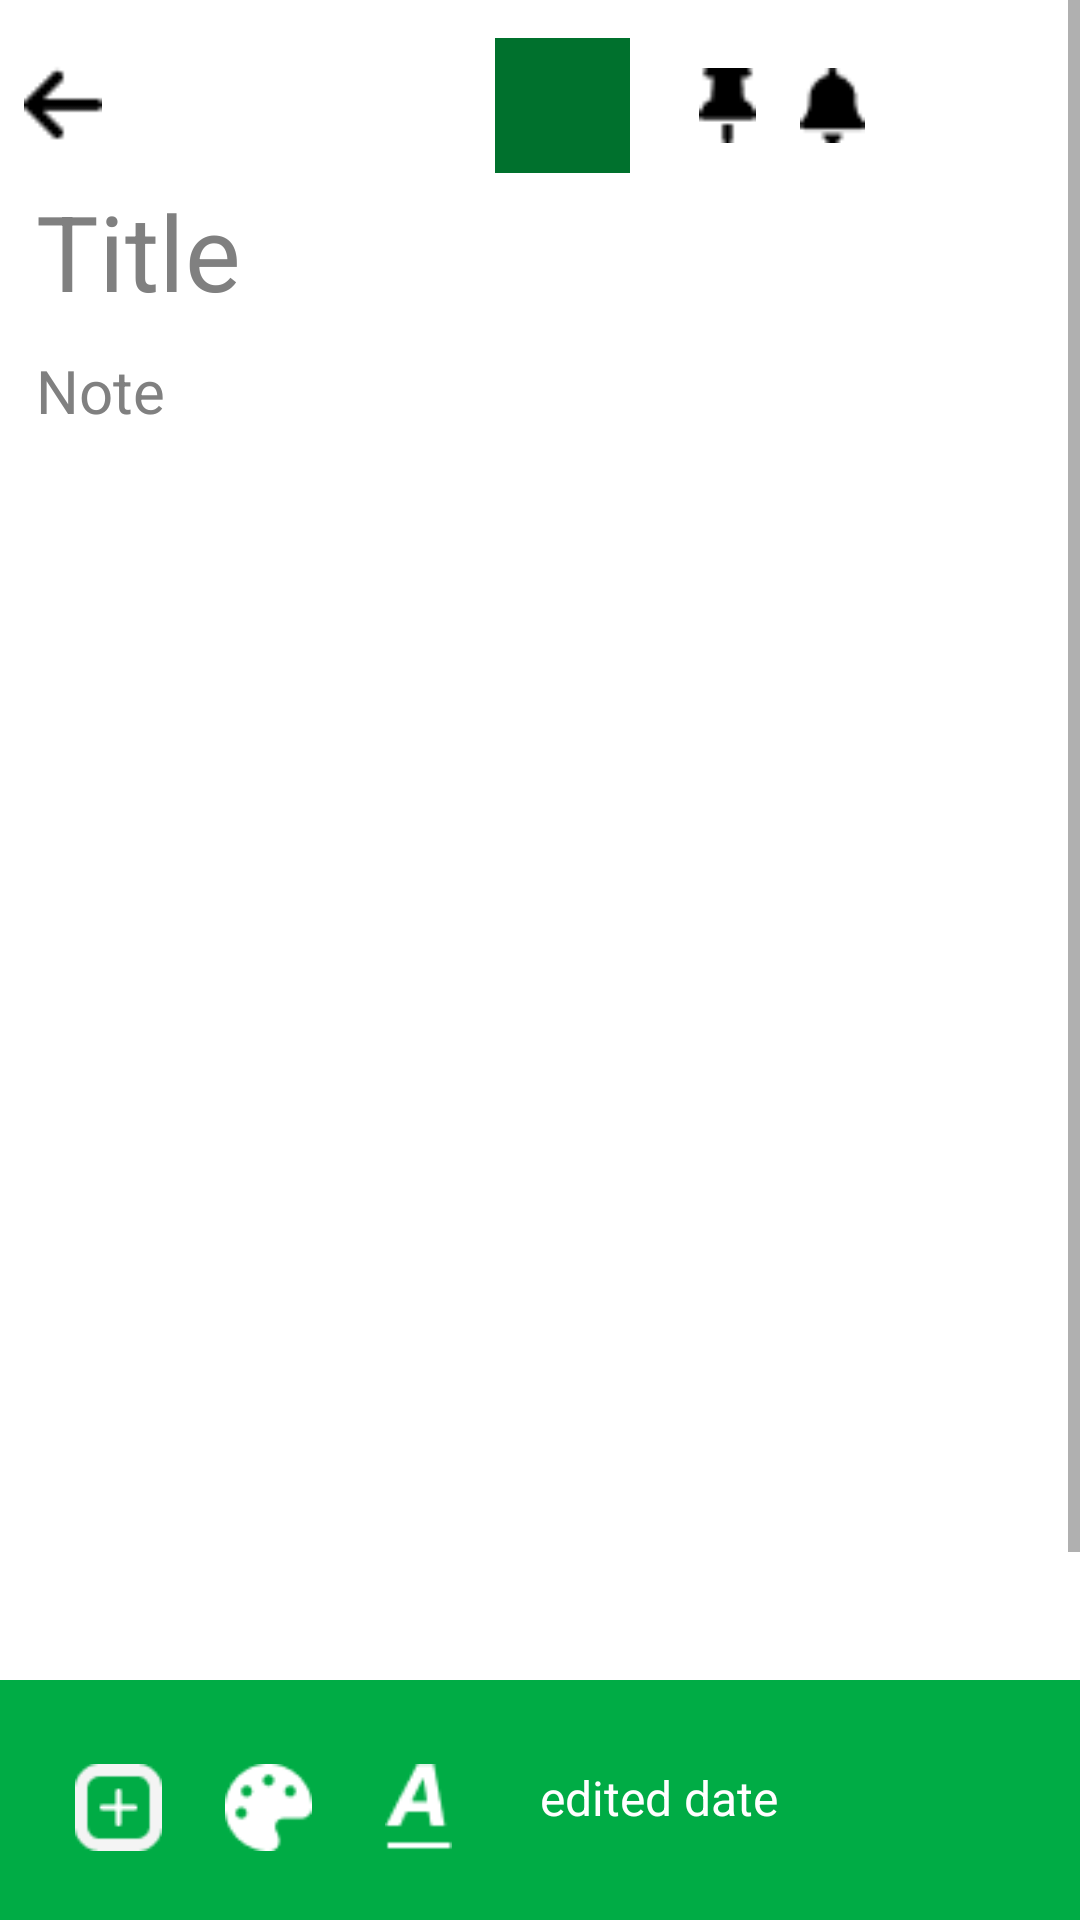

Named icons in this screenshot (1080*1920) and their bounding boxes, (x1, y1, x2, y2):
arrow left: (24, 69, 102, 140)
bell: (800, 68, 865, 143)
paint: (225, 1764, 312, 1851)
pin: (699, 68, 756, 143)
